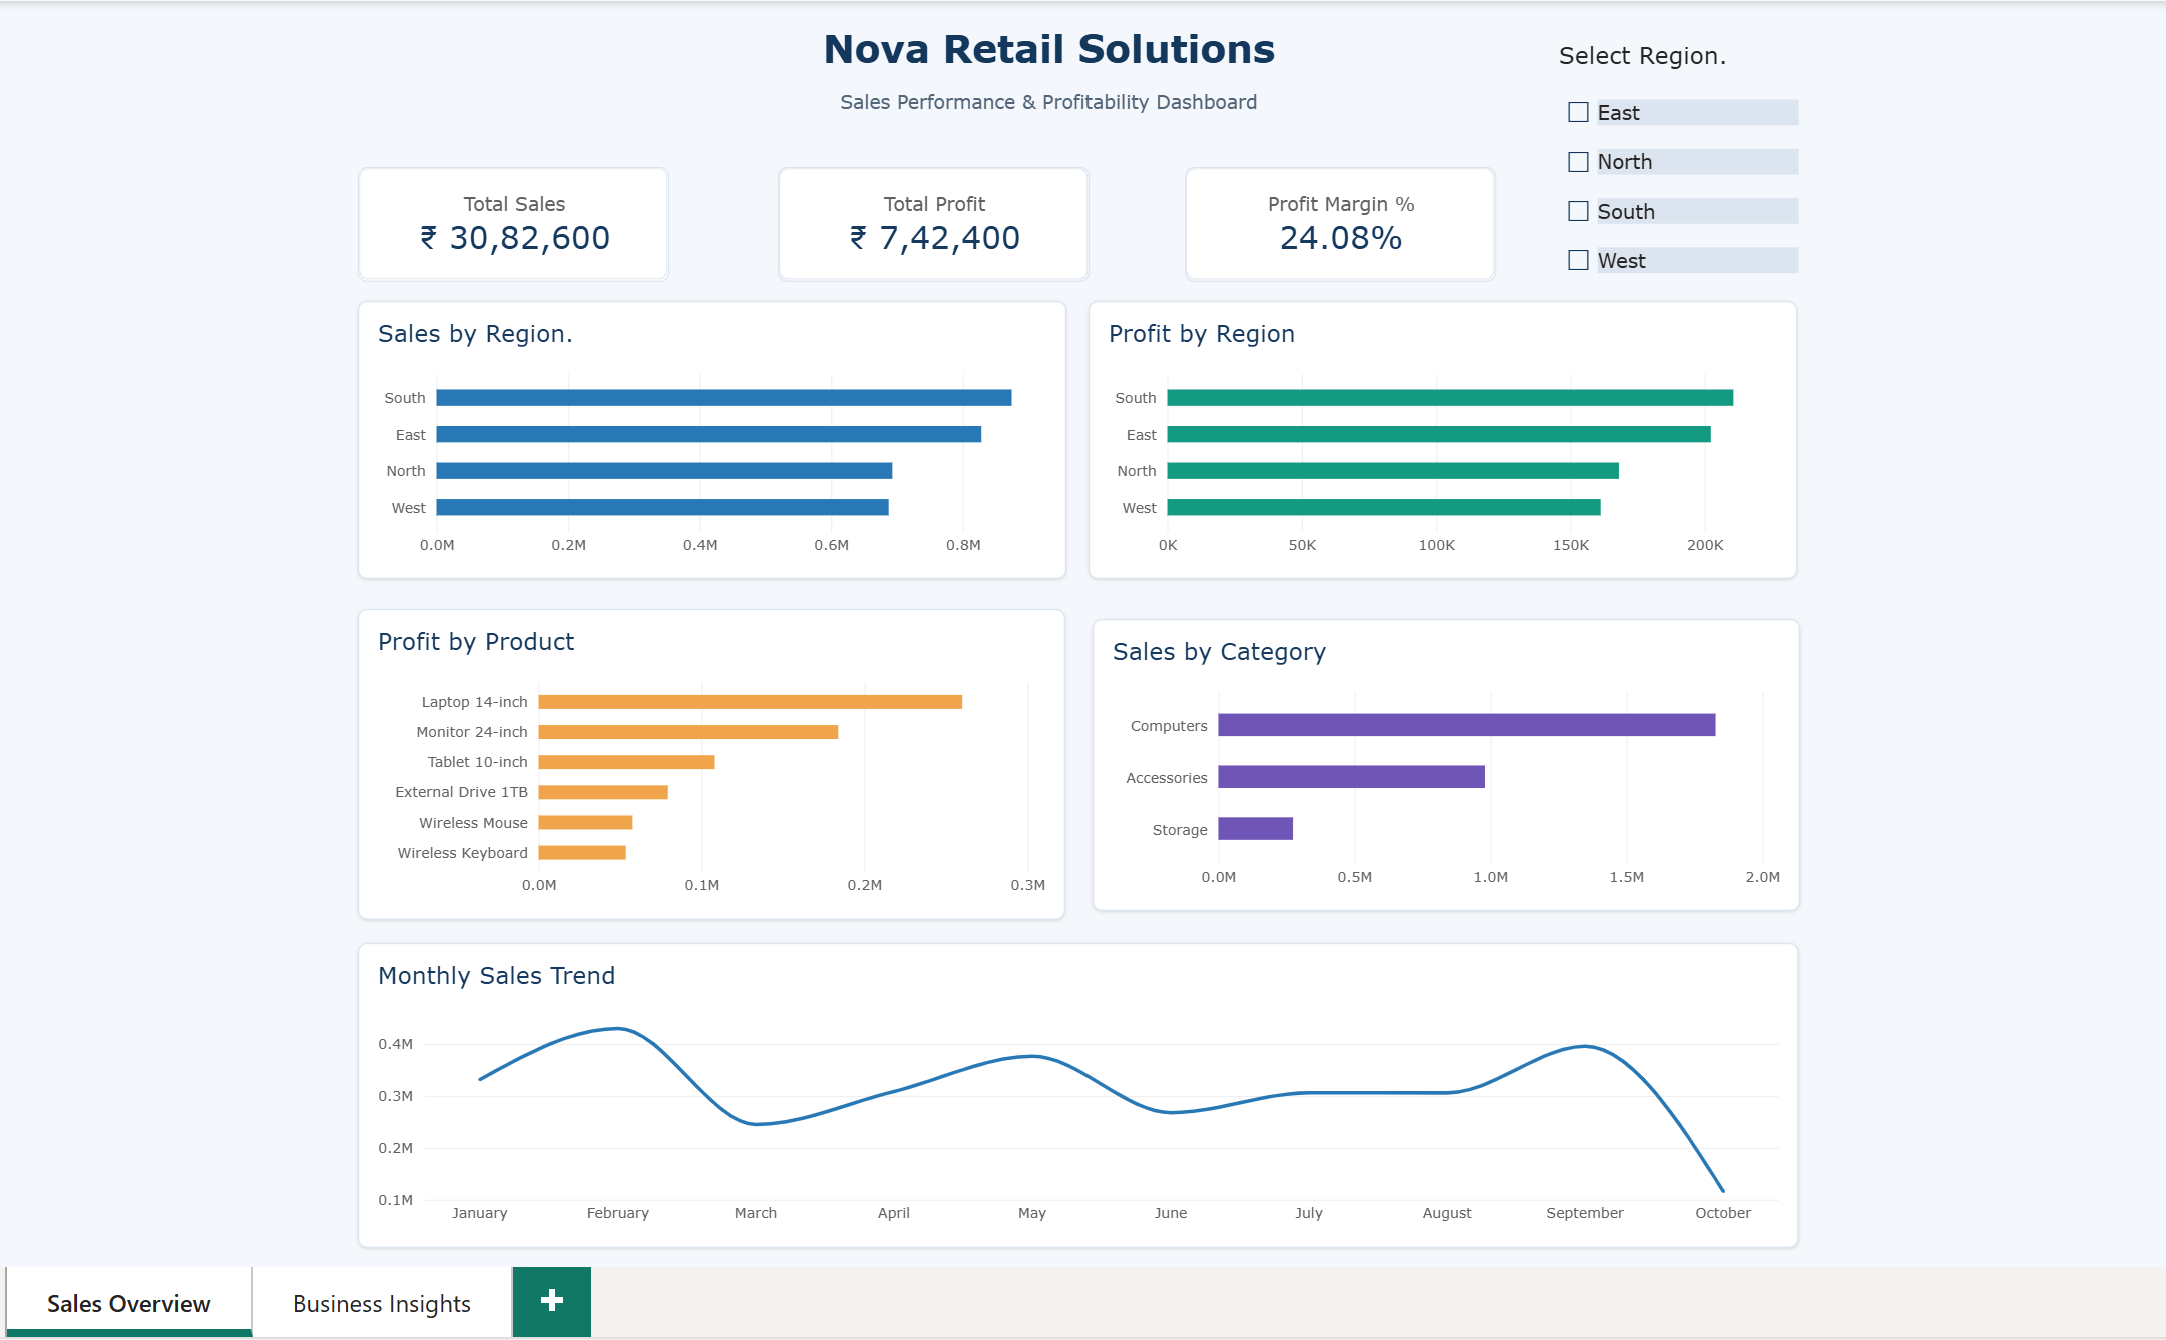

Layout of this report page (visuals, bound fields, positions):
{"tool":"powerbi","page":{"name":"Sales Overview","canvas":[1920,1080],"ordinal":0},"visuals":[{"type":"cardVisual","fields":{"Data":["SalesData.Total Profit"]},"box":[730.7,141.3,265.6,97.8],"z":0},{"type":"cardVisual","fields":{"Data":["SalesData.Total Sales"]},"box":[371.8,141,265.6,97.8],"z":1000},{"type":"cardVisual","fields":{"Data":["SalesData.Profit Margin %"]},"box":[1076.9,141,265.6,97.8],"z":2000},{"type":"clusteredBarChart","title":"Sales by Region.","fields":{"Category":["SalesData.Region"],"Y":["Sum(SalesData.SalesINR)"]},"box":[371.2,256.6,604,237],"z":3000},{"type":"clusteredBarChart","title":"Profit by Product","fields":{"Category":["SalesData.ProductName"],"Y":["Sum(SalesData.ProfitINR)"]},"box":[371.2,518.6,603,265],"z":4000},{"type":"lineChart","title":"Monthly Sales Trend","fields":{"Category":["SalesData.OrderDate.Variation.Date Hierarchy.Month"],"Y":["Sum(SalesData.SalesINR)"]},"box":[371.2,803.6,1228,260],"z":5000},{"type":"slicer","title":"Select Region.","fields":{"Values":["SalesData.Region"]},"box":[1395.6,33.8,204.4,214.7],"z":6000},{"type":"clusteredBarChart","title":"Sales by Category","fields":{"Category":["SalesData.Category"],"Y":["Sum(SalesData.SalesINR)"]},"box":[997.4,526.9,603,249],"z":7000},{"type":"clusteredBarChart","title":"Profit by Region","fields":{"Category":["SalesData.Region"],"Y":["Sum(SalesData.ProfitINR)"]},"box":[995.2,256.6,604,237],"z":8000},{"type":"textbox","box":[760.3,20.6,400,97.1],"z":9000}]}

Visuals, with their boxes on the page's 1920x1080 design canvas (x1, y1, x2, y2). These are canvas units, not pixel positions in the 2166x1340 screenshot, which may show the page scaled, cropped or inside an application window:
cardVisual - SalesData.Total Profit: box=[731, 141, 996, 239]
cardVisual - SalesData.Total Sales: box=[372, 141, 637, 239]
cardVisual - SalesData.Profit Margin %: box=[1077, 141, 1342, 239]
"Sales by Region." clusteredBarChart: box=[371, 257, 975, 494]
"Profit by Product" clusteredBarChart: box=[371, 519, 974, 784]
"Monthly Sales Trend" lineChart: box=[371, 804, 1599, 1064]
"Select Region." slicer: box=[1396, 34, 1600, 248]
"Sales by Category" clusteredBarChart: box=[997, 527, 1600, 776]
"Profit by Region" clusteredBarChart: box=[995, 257, 1599, 494]
textbox: box=[760, 21, 1160, 118]
